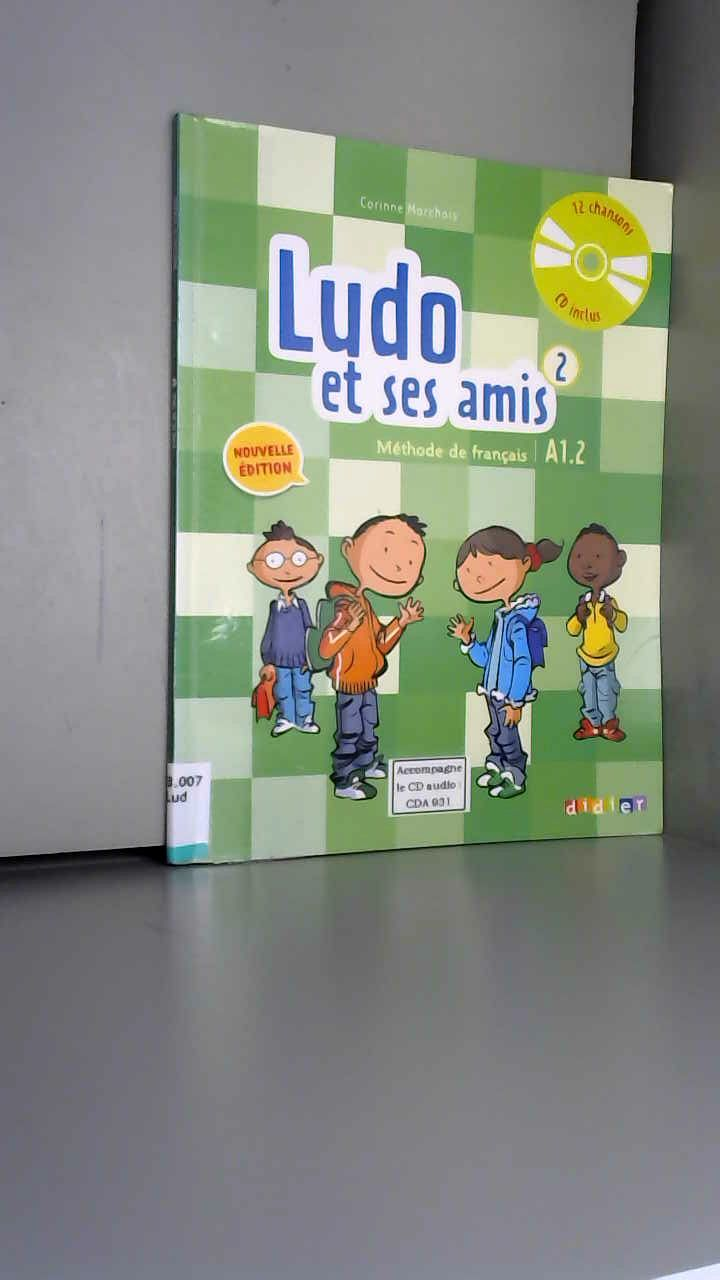book: (140, 80, 720, 880)
